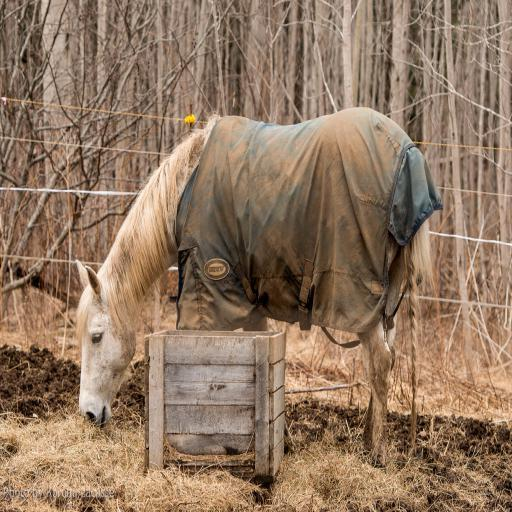horse: (73, 104, 437, 461)
